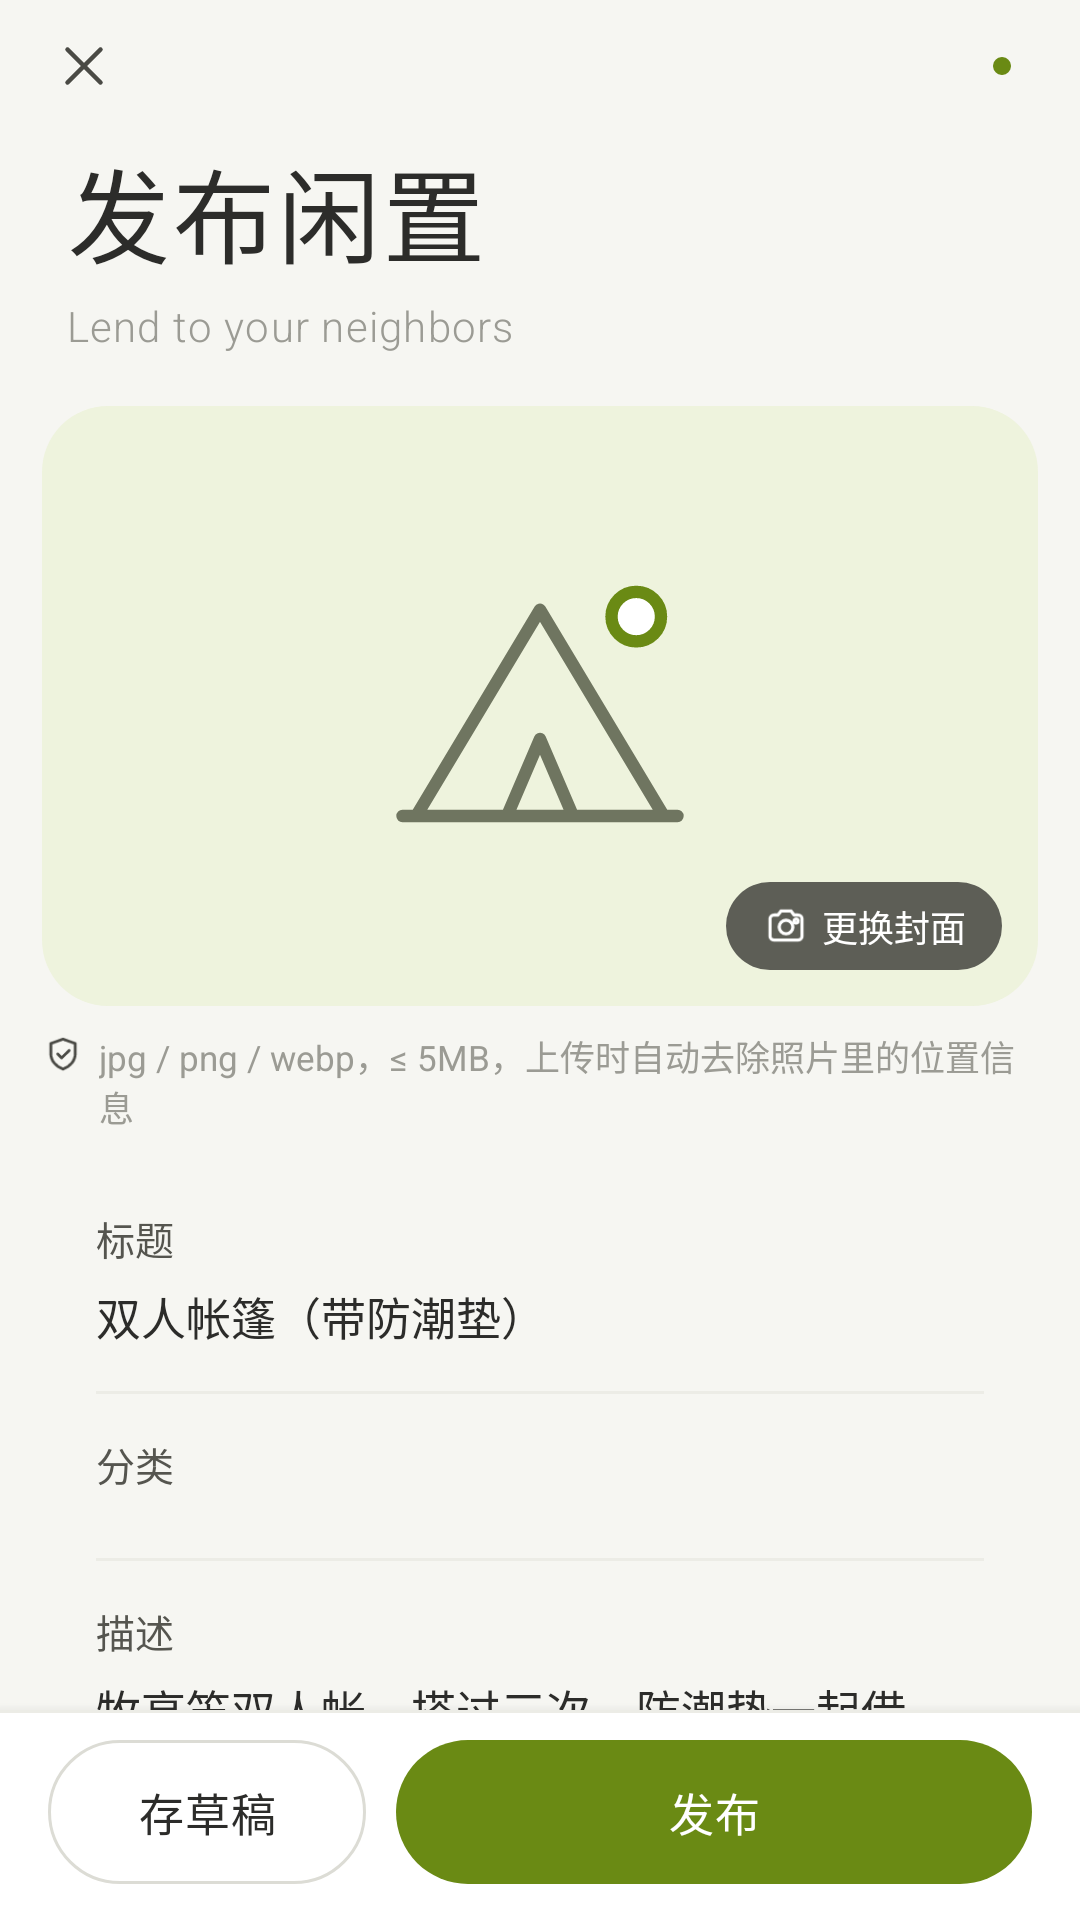

Locate icon controls on the screen. Image size 1080w x 1920h, boxes as (x1, y1, x2, y2).
cam: (768, 909, 804, 942)
ill camping: (396, 585, 684, 823)
shield: (49, 1037, 77, 1071)
关闭: (65, 47, 103, 85)
